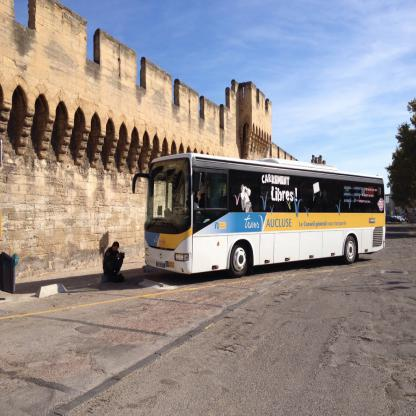bus: (130, 146, 388, 284)
